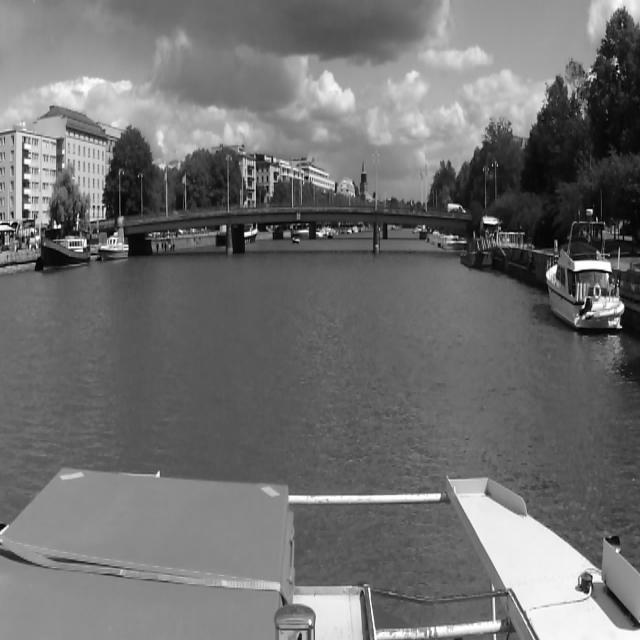ship: (546, 207, 622, 333), (43, 235, 91, 273), (98, 232, 130, 262)
